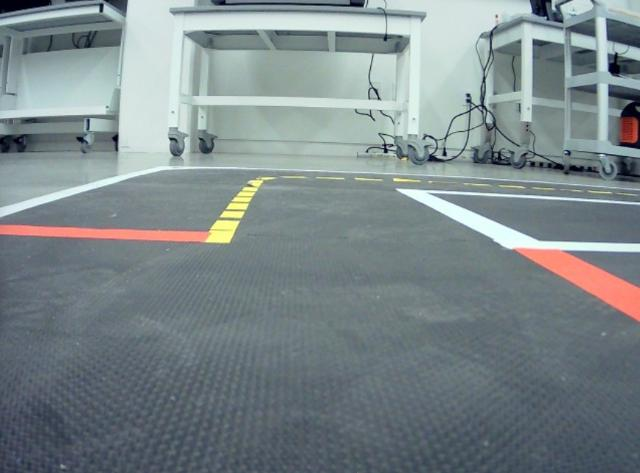redline: (514, 248, 640, 323), (0, 223, 209, 244)
whiteline: (166, 165, 640, 189), (2, 165, 168, 219), (399, 189, 544, 248), (397, 189, 640, 205), (504, 242, 640, 248)
yellowline: (306, 173, 640, 195), (207, 181, 263, 245), (256, 174, 306, 182)
